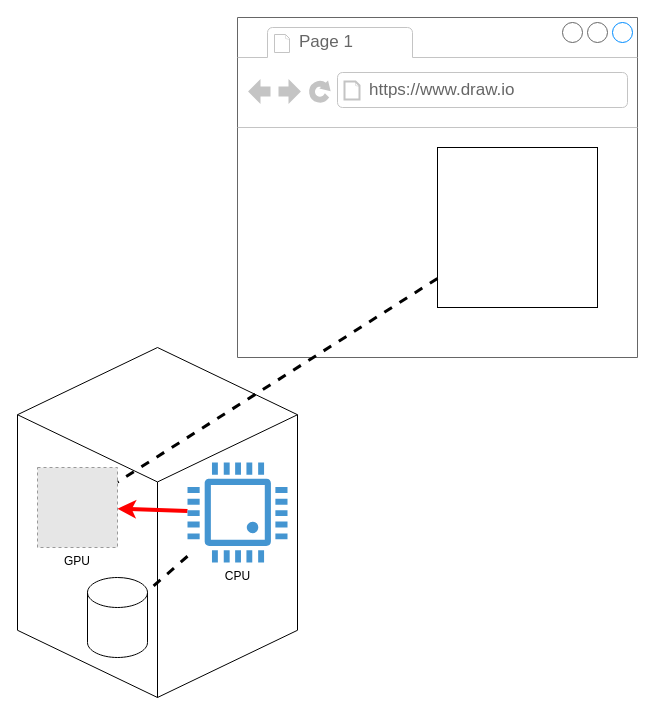
The diagram is 655 pixels wide and 715 high, and some of its shapes have lost their labels. Grey dashed boxes stand in for pictures. The shapes that lost their labels are listed below. From the top down, each one's centre as x and y in pixels, then its label:
point (517, 227): Canvas
point (117, 617): Data
